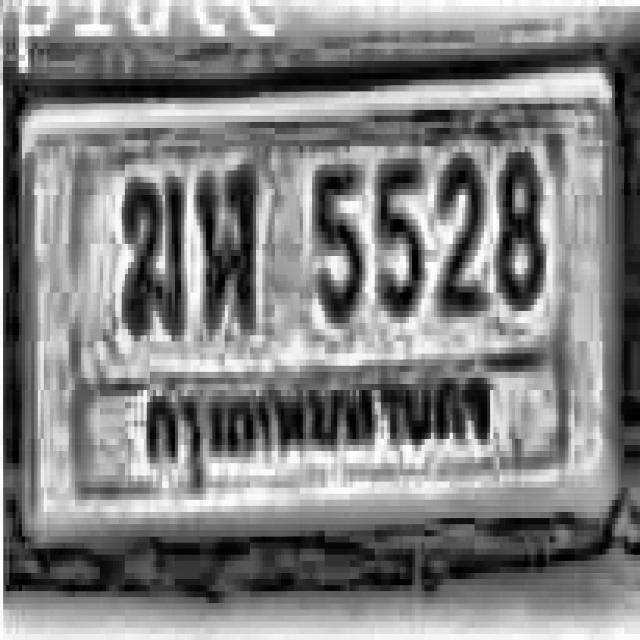license-plate: (10, 63, 629, 578)
